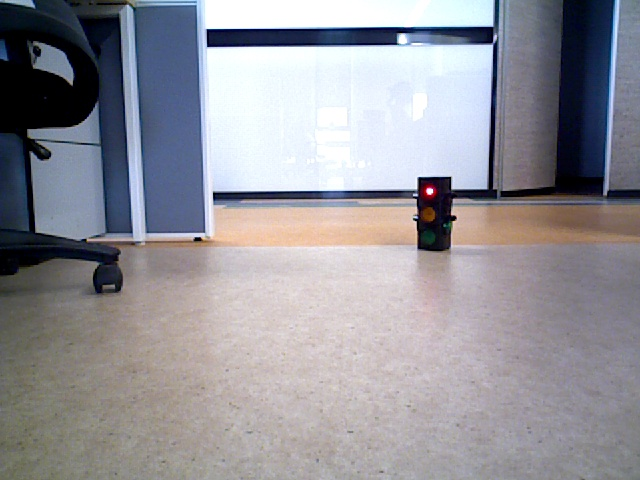red: (419, 177, 446, 247)
